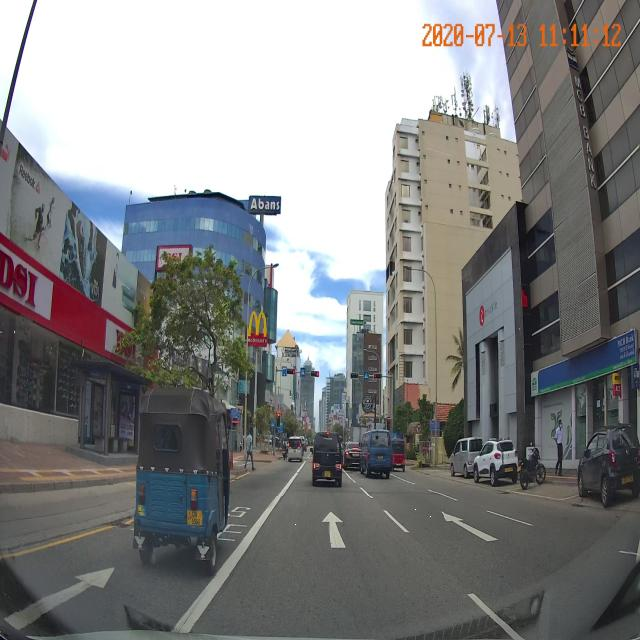diamond: (216, 497, 444, 575)
